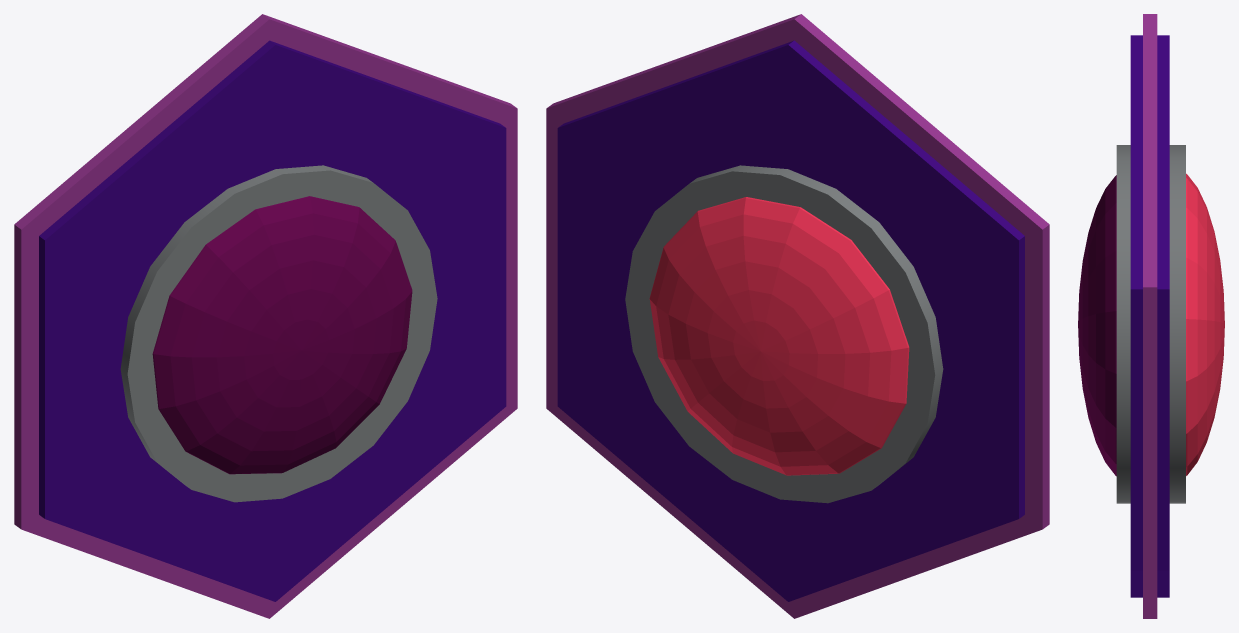
The model's file is Currency_Chip_2.fbx.
The picture shows the model from 3 angles, left to right: view 1: azimuth 30°, elevation 25°; view 2: azimuth 150°, elevation 25°; view 3: azimuth 270°, elevation 25°; orthographic projection.
Parts seen in each view (by area): view 1: Currency_Chip_2; view 2: Currency_Chip_2; view 3: Currency_Chip_2.
Boxes of the visible parts, x1,y1,x2,y2 form: Currency_Chip_2: [14, 14, 517, 618]; Currency_Chip_2: [546, 14, 1049, 618]; Currency_Chip_2: [1078, 14, 1224, 618].
Size of the model in its own units: 0.7559 by 0.8729 by 0.1921.
